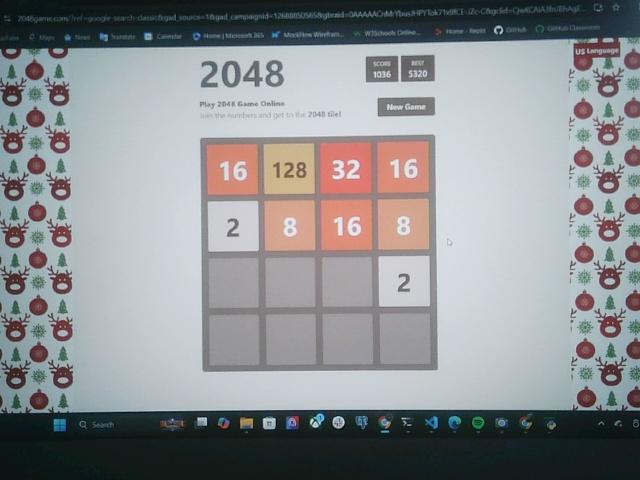board: (202, 137, 437, 371)
tile: (321, 200, 373, 251), (379, 256, 430, 308), (208, 202, 261, 252), (379, 199, 429, 251), (208, 143, 258, 194), (321, 143, 372, 193), (378, 142, 429, 192), (264, 145, 314, 194), (266, 202, 316, 251)
